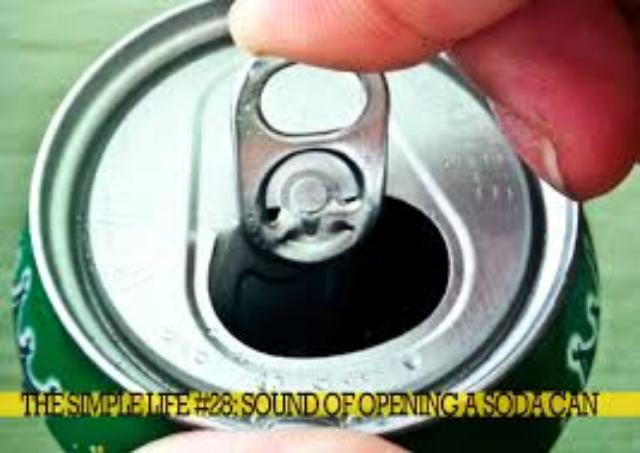metal: (12, 0, 594, 446)
